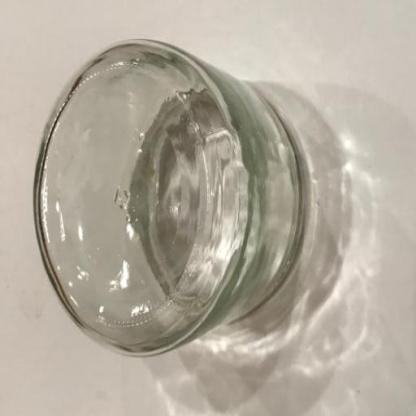trash: (32, 39, 310, 363)
